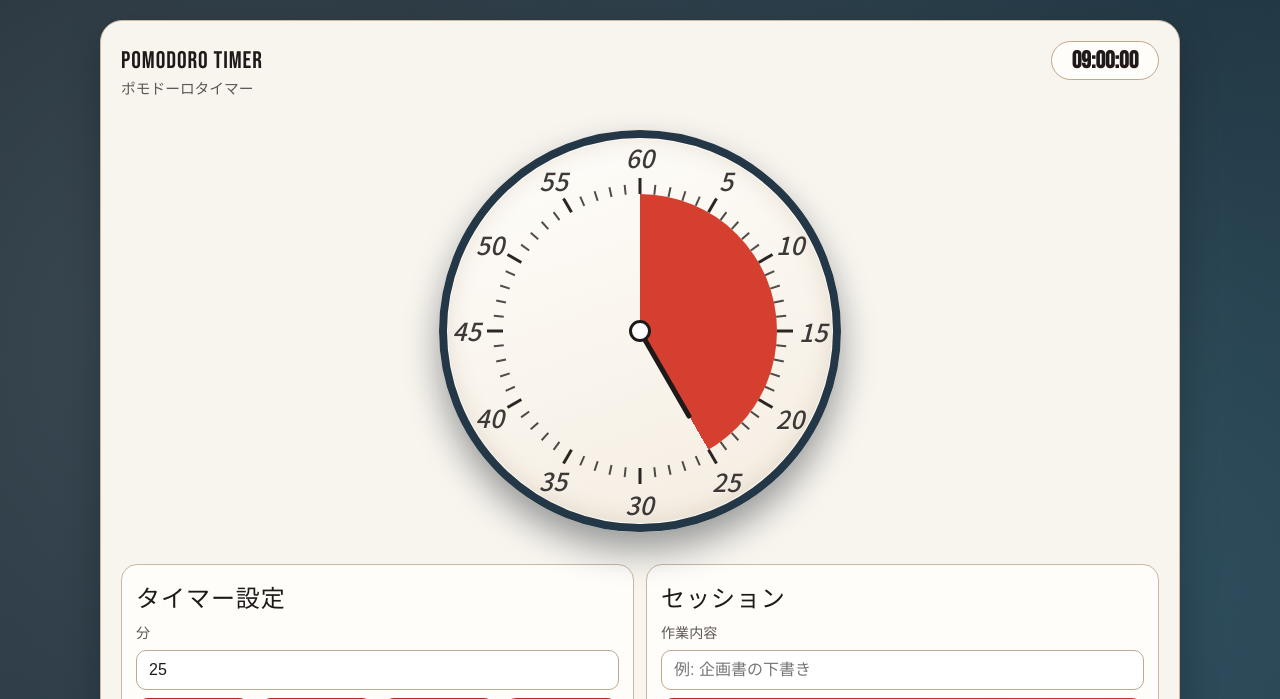
Test case: App › switches to break timer when work timer completes
Replace the text in the number field labelled "分" with "1": (378, 670) [136,650,619,690]
(page scrolled)
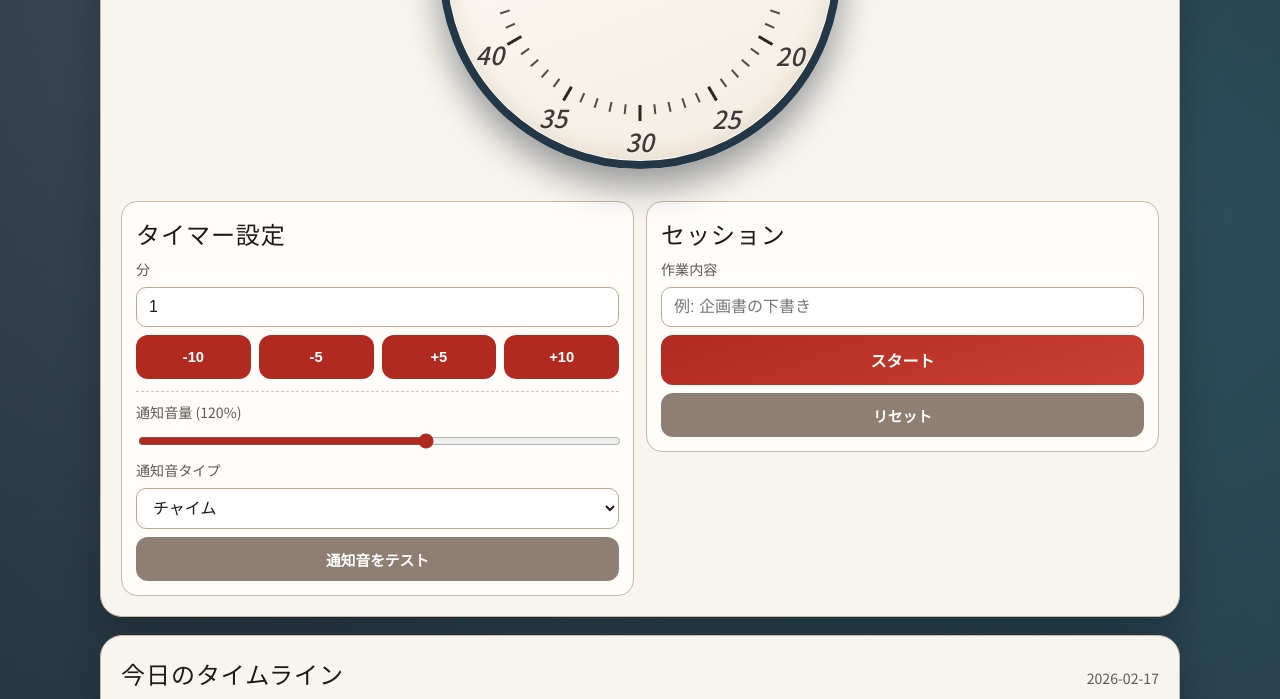
Click the button named "タイマー開始": (902, 360) [661,335,1144,385]
Wait 61000 ms
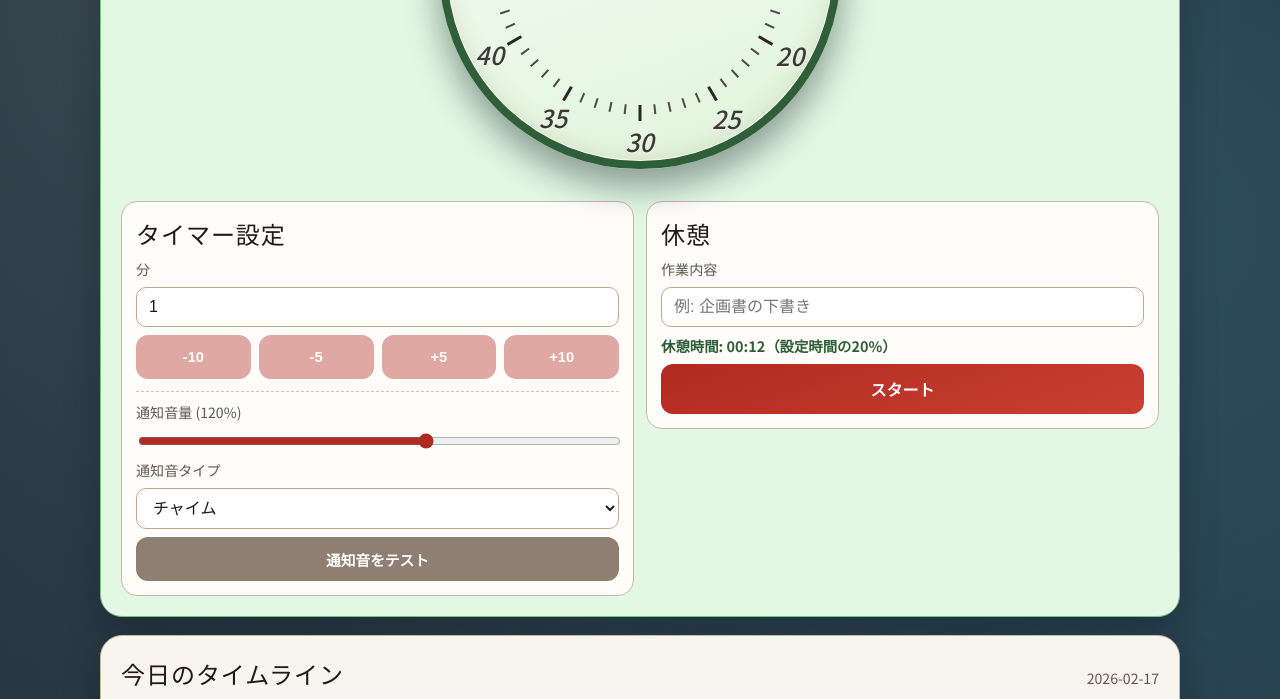
Check: the text "休憩時間: 00:12（設定時間の20%）" is shown, box [661,335,897,356]
